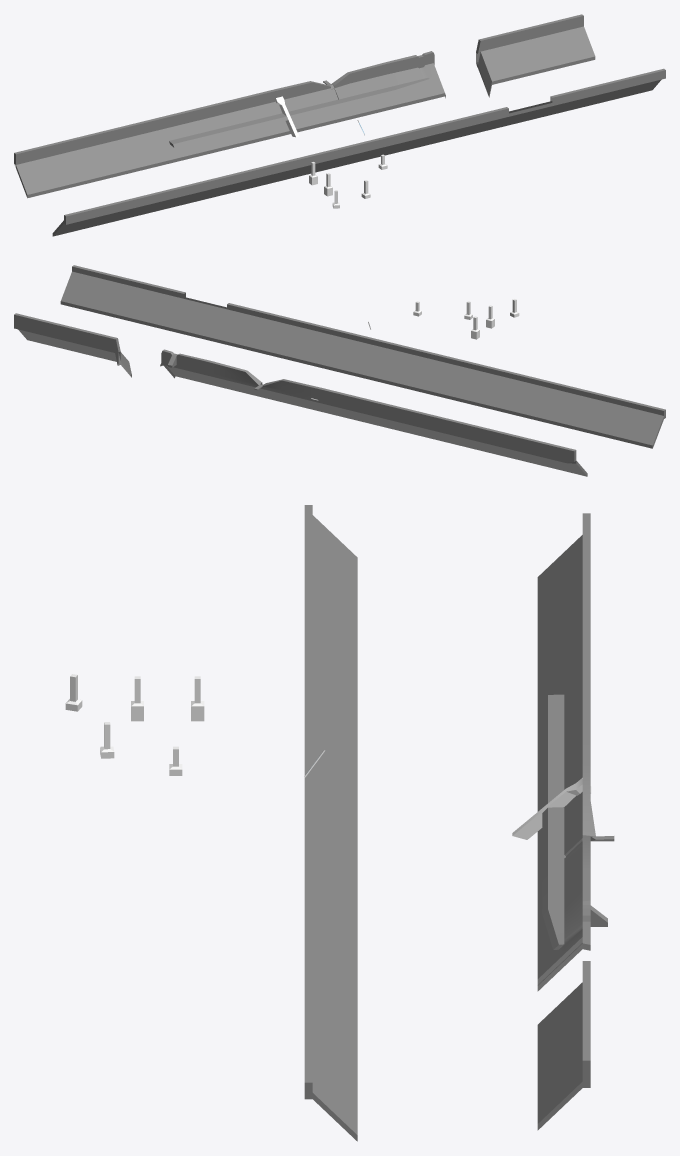
The model's file is Decoração.fbx.
3 views of the same model, one above another, from view 1: azimuth 30°, elevation 25°; view 2: azimuth 150°, elevation 25°; view 3: azimuth 270°, elevation 25° (orthographic). The views are drawn at different scales.
Parts seen in each view (by area): view 1: Decoração; view 2: Decoração; view 3: Decoração.
Part boxes in pixels (x1,y1,x2,y2): Decoração: (14,14,665,236); Decoração: (14,265,665,476); Decoração: (65,505,614,1141).
Size of the model in its own units: 34611 by 3478 by 13896.
